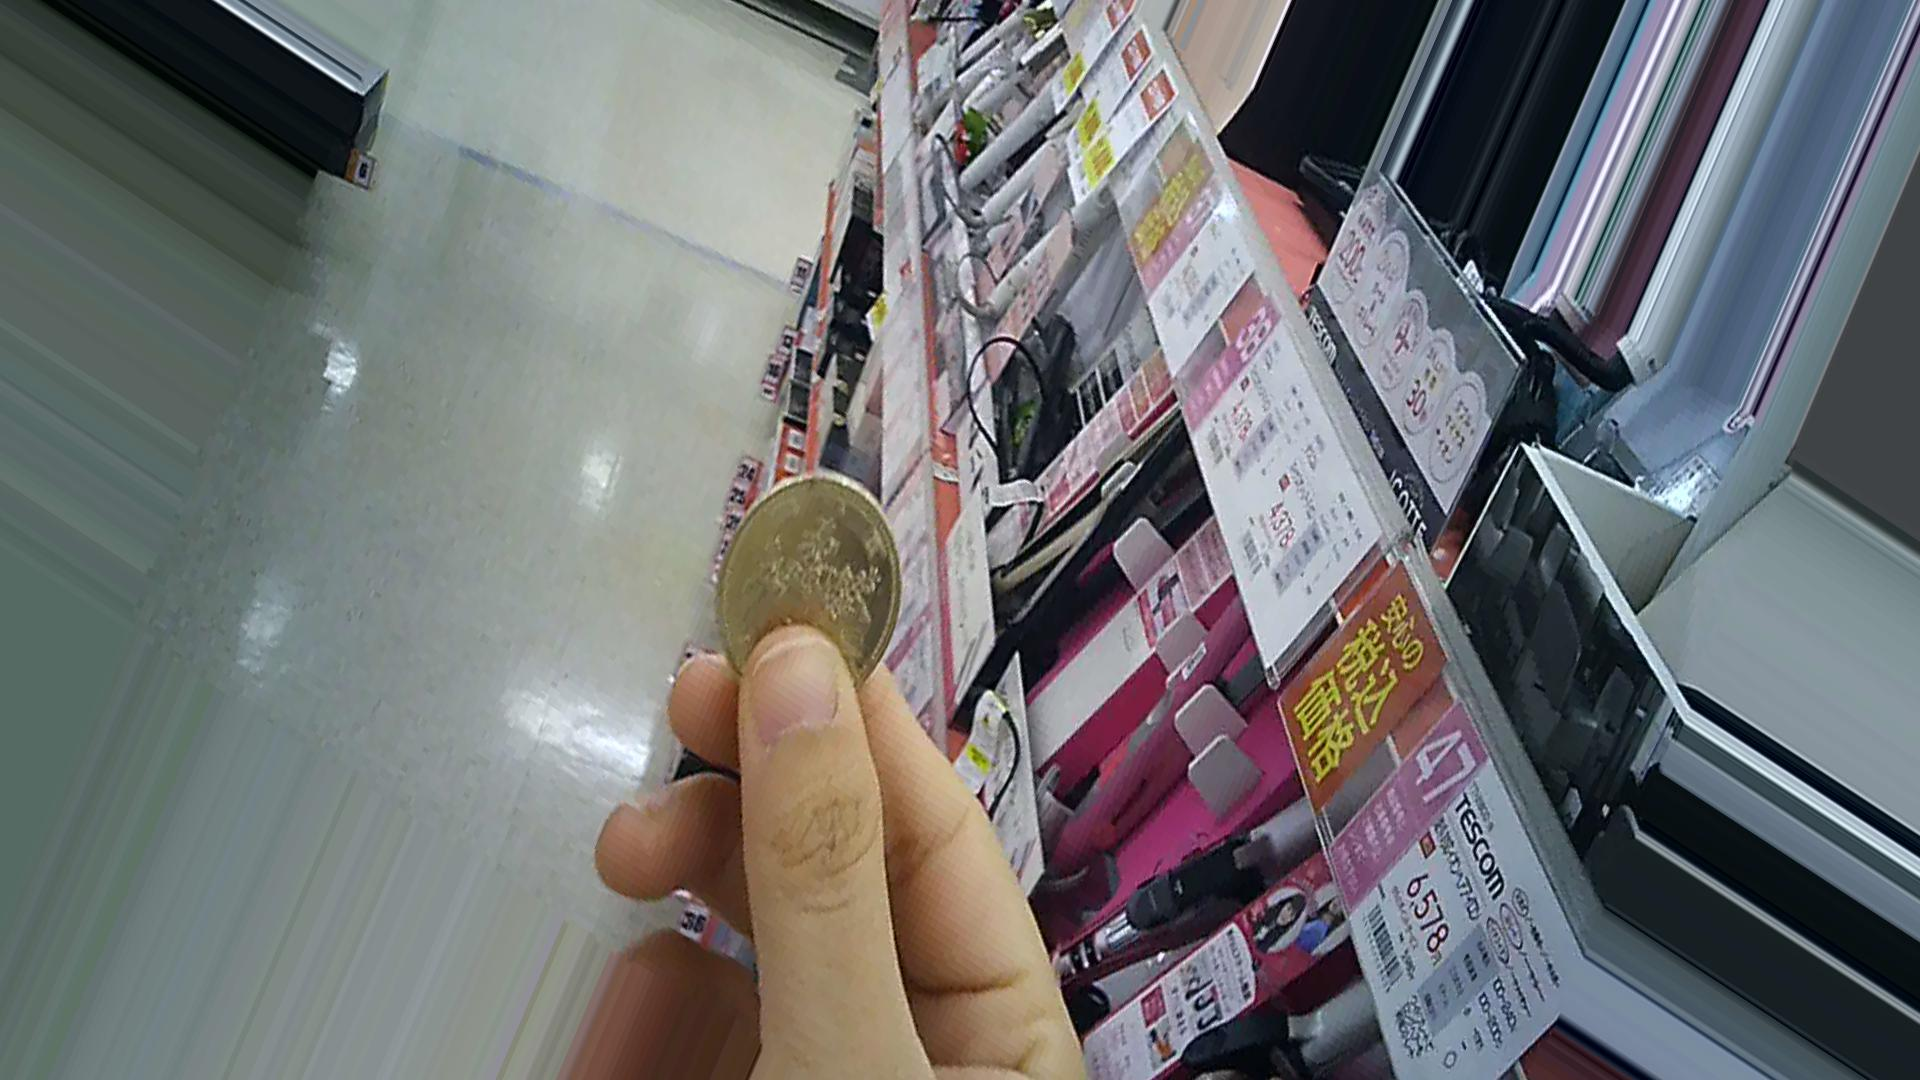500 Yen: (715, 473, 902, 700)
